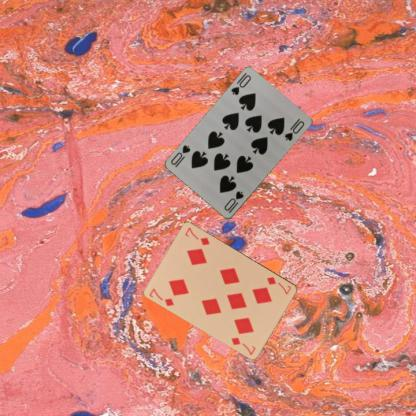10s: (228, 72, 253, 98), (221, 188, 245, 212)
7d: (146, 286, 176, 308), (264, 274, 292, 296)
